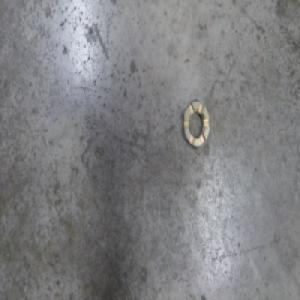Nut: (182, 98, 210, 153)
